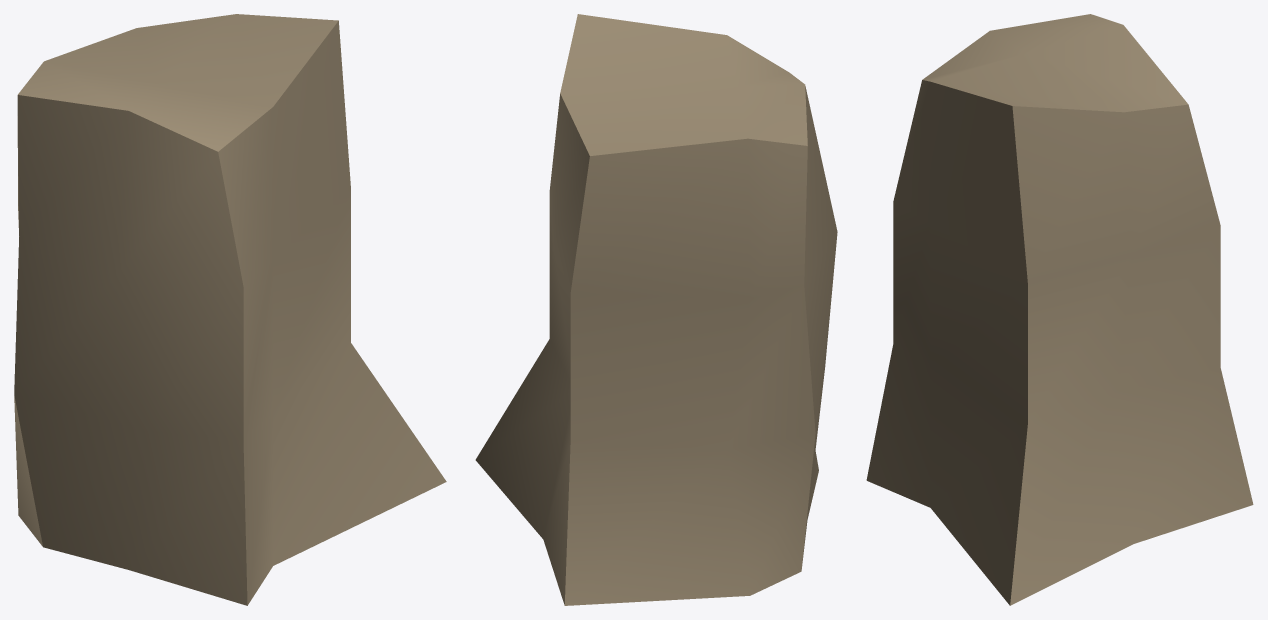
Rendered from rocks_tall_sml.fbx.
The picture shows the model from 3 angles, left to right: view 1: azimuth 30°, elevation 25°; view 2: azimuth 150°, elevation 25°; view 3: azimuth 270°, elevation 25°; orthographic projection. The views are drawn at different scales.
Visible parts, largest first — view 1: rocks_tall_sml; view 2: rocks_tall_sml; view 3: rocks_tall_sml.
Boxes of the visible parts, x1,y1,x2,y2 form: rocks_tall_sml: (14, 14, 446, 605); rocks_tall_sml: (475, 14, 837, 605); rocks_tall_sml: (866, 14, 1253, 605).
Size of the model in its own units: 61.83 by 73.41 by 57.01.
